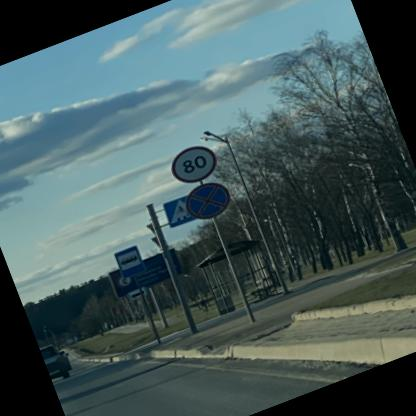crosswalk: (159, 193, 195, 228)
speedlimit: (162, 138, 219, 188)
